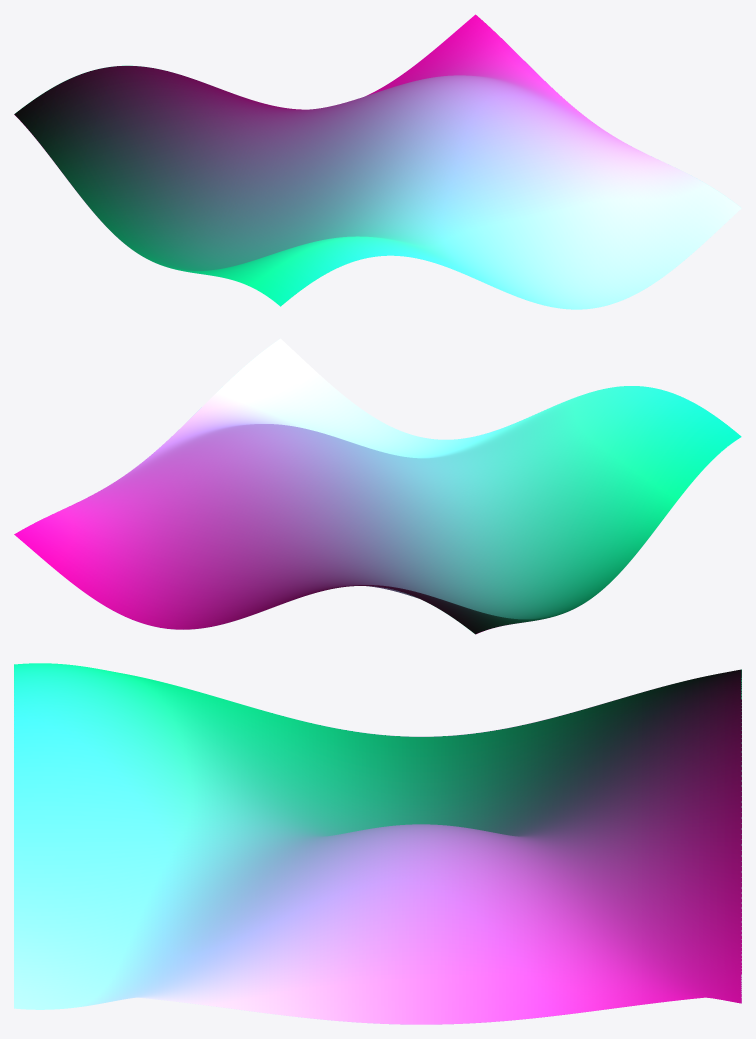
The model's file is heavy-01.glb.
3 renders of one model, top to bottom at view 1: azimuth 30°, elevation 25°; view 2: azimuth 150°, elevation 25°; view 3: azimuth 270°, elevation 25°, orthographic. The views are drawn at different scales.
Bounding box in the file's own units: 8 × 1.8 × 8.
Materials: 1 (1 with a texture image).
